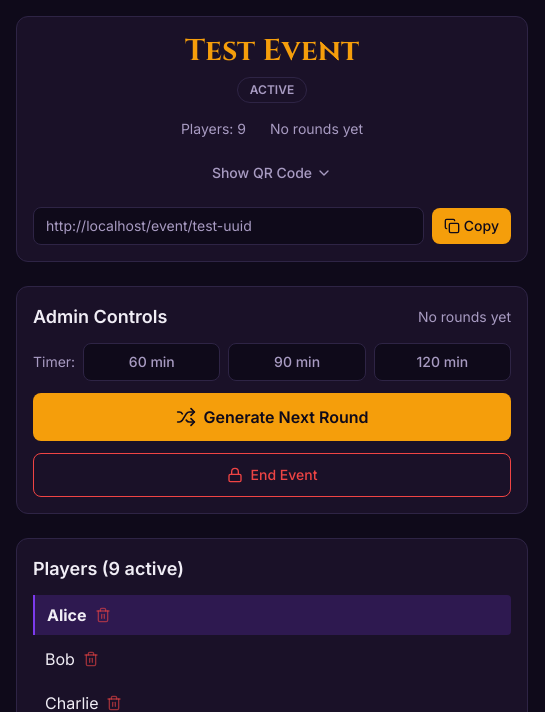
it: Generate Round › generates round successfully
Note: Click generate round
Click the button with test id "generate-round-btn". click: (272, 417)
box: [33, 393, 511, 441]
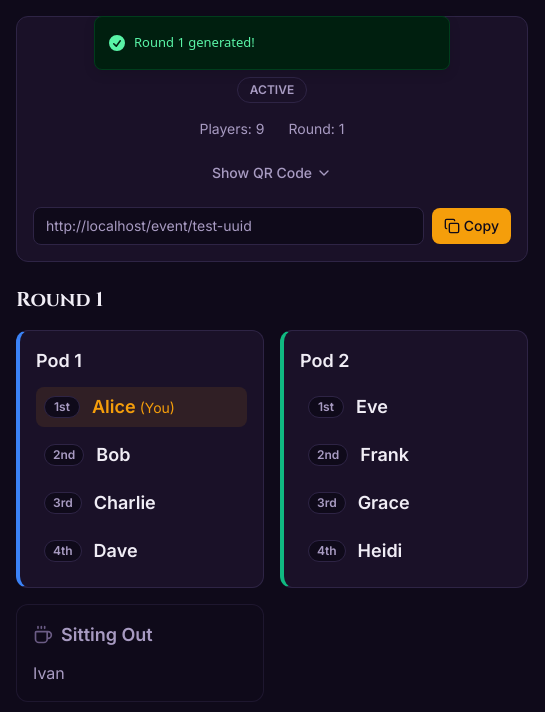
Expected: the element with test id "round-display" is shown, [16, 286, 528, 702]
Expected: the heading with test id "round-number" reads "Round 1", [16, 286, 103, 313]
